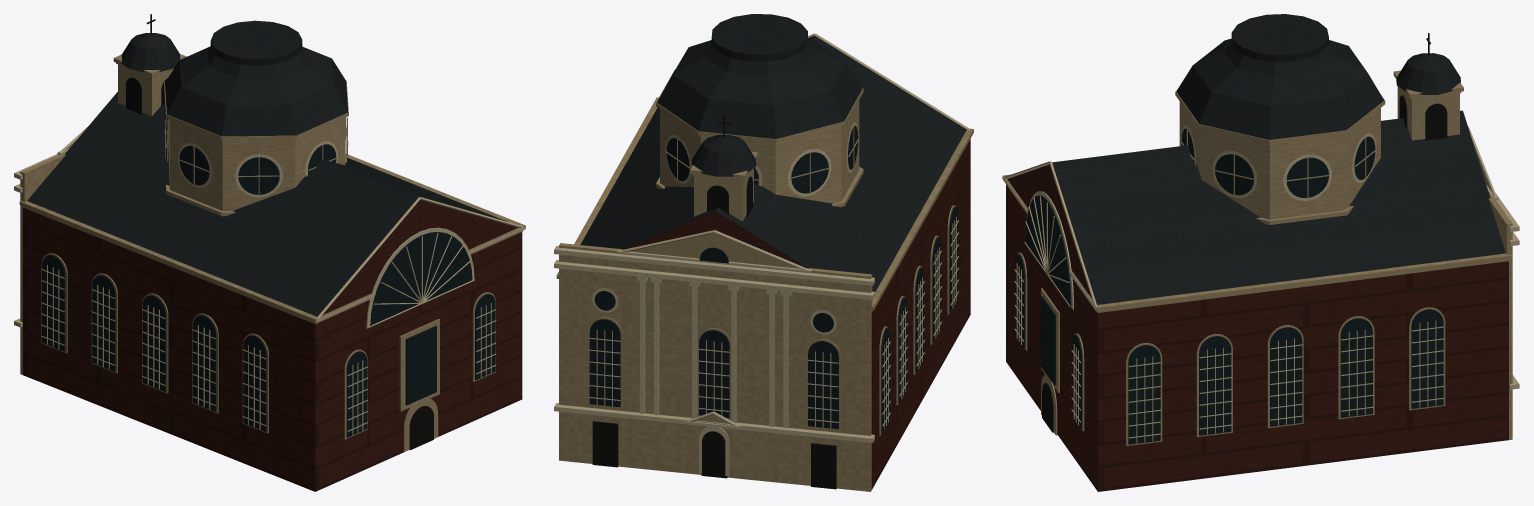
3 views of the same model, side by side, from view 1: azimuth 30°, elevation 25°; view 2: azimuth 150°, elevation 25°; view 3: azimuth 270°, elevation 25° (orthographic). The views are drawn at different scales.
Parts seen in each view (by area): view 1: dominicuskerk-0, dominicuskerk-1, dominicuskerk-4, dominicuskerk-2, dominicuskerk-3, dominicuskerk-5; view 2: dominicuskerk-2, dominicuskerk-1, dominicuskerk-3, dominicuskerk-0, dominicuskerk-4, dominicuskerk-5; view 3: dominicuskerk-0, dominicuskerk-1, dominicuskerk-4, dominicuskerk-2, dominicuskerk-3, dominicuskerk-5.
Boxes of the visible parts, box(x1,y1,x2,y2) form: dominicuskerk-0: box(23, 199, 522, 491); dominicuskerk-1: box(27, 20, 507, 316); dominicuskerk-4: box(42, 118, 495, 437); dominicuskerk-2: box(19, 54, 525, 451); dominicuskerk-3: box(14, 117, 525, 435); dominicuskerk-5: box(126, 14, 433, 450); dominicuskerk-2: box(556, 69, 973, 491); dominicuskerk-1: box(580, 14, 966, 292); dominicuskerk-3: box(554, 33, 969, 476); dominicuskerk-0: box(624, 139, 970, 489); dominicuskerk-4: box(589, 126, 958, 433); dominicuskerk-5: box(592, 115, 836, 489); dominicuskerk-0: box(1006, 164, 1508, 491); dominicuskerk-1: box(1052, 14, 1505, 304); dominicuskerk-4: box(1015, 128, 1443, 444); dominicuskerk-2: box(1002, 70, 1512, 445); dominicuskerk-3: box(1002, 125, 1519, 443); dominicuskerk-5: box(1042, 33, 1447, 432).
Size of the model in its own units: 36.97 by 33.68 by 43.41.
Materials: 6 (6 with a texture image).
